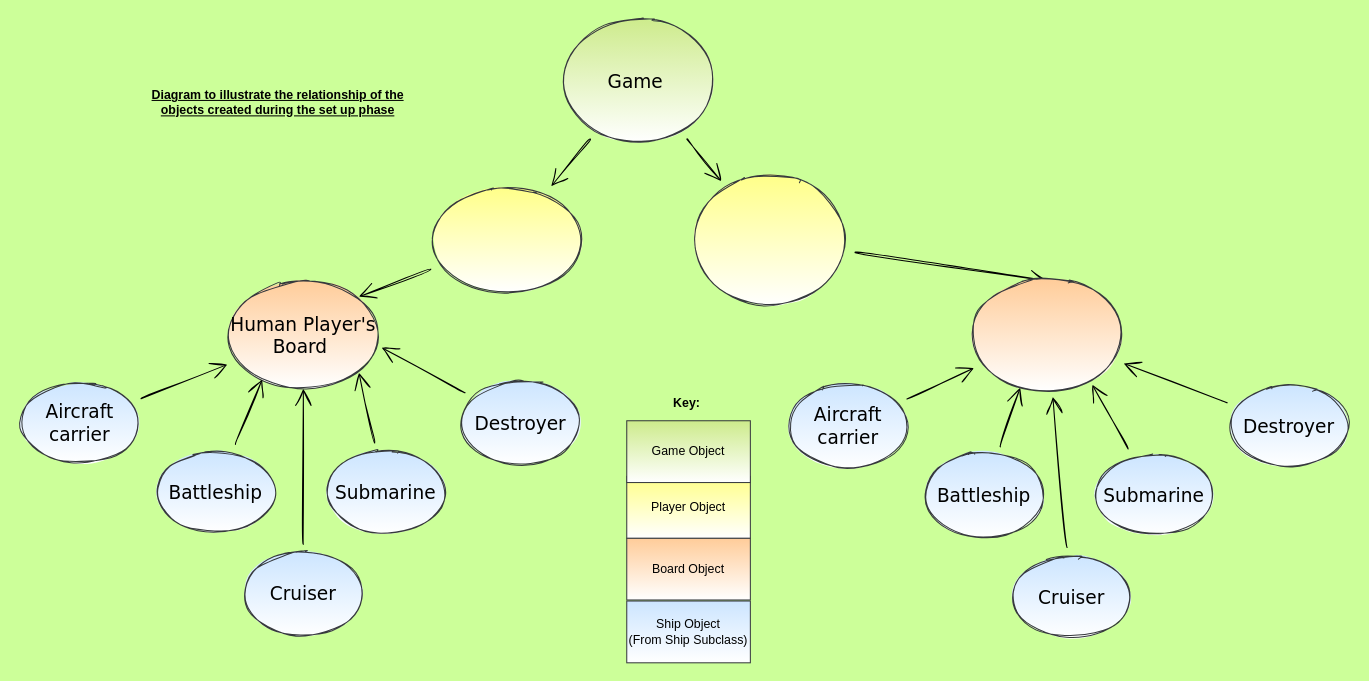
Some shapes in this 1369 by 681 pixel diagram are drawn without their labels. Each missing label, with the box of its shape:
computer Player: (690, 177, 848, 302)
Computer Player's Board: (968, 280, 1125, 389)
Human Player: (428, 185, 586, 294)
